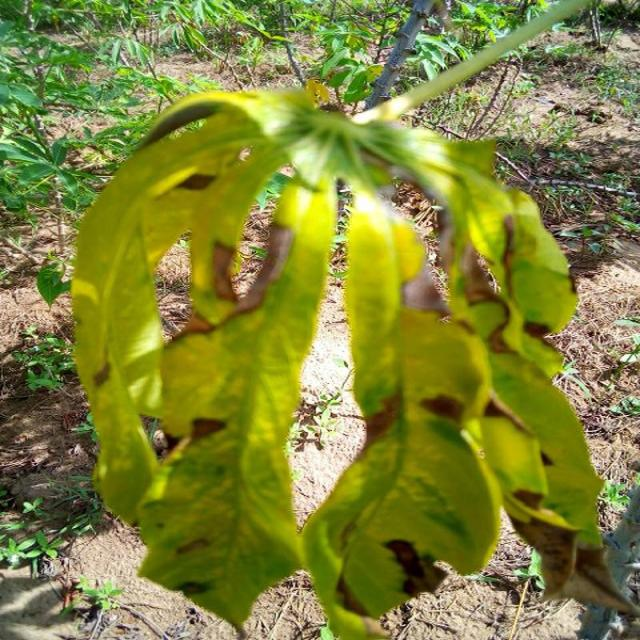cassava leaf: (70, 84, 632, 637)
